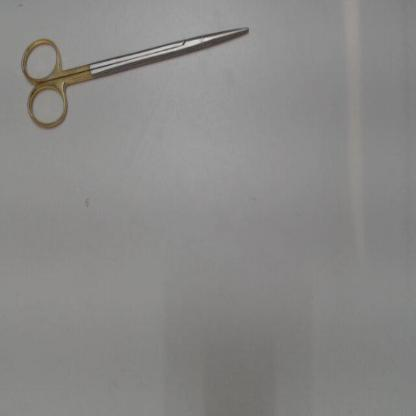7 Metzenbaum Scissors: (19, 23, 253, 136)
